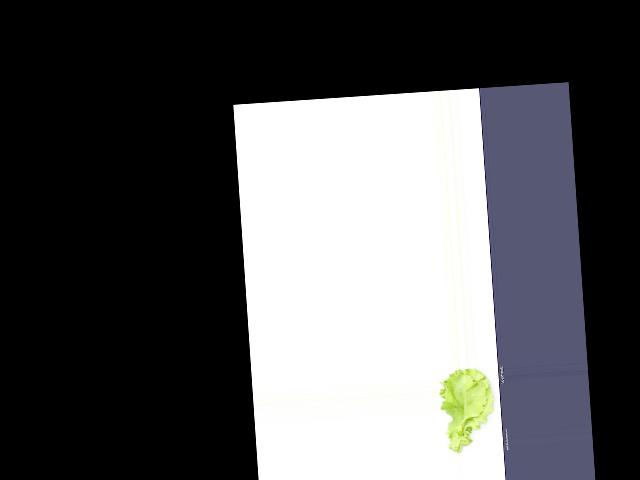lettuce: (437, 366, 501, 452)
